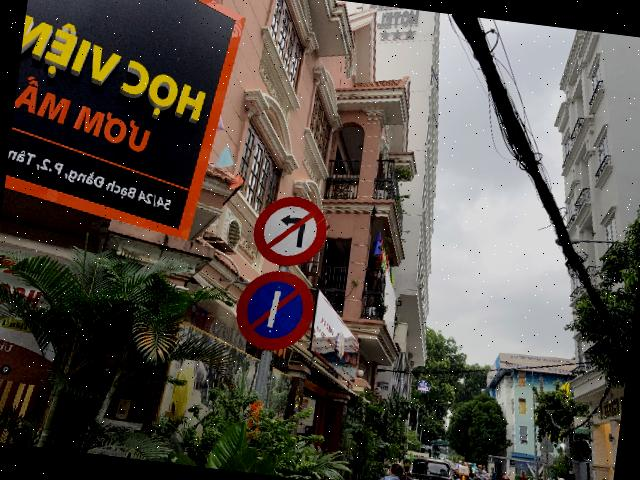cam-do-xe-ngay-le: (231, 266, 317, 356)
cam-re-phai: (249, 192, 331, 272)
